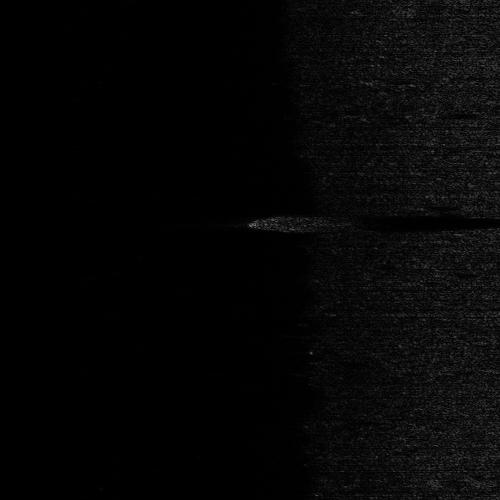rock: (296, 221, 327, 224)
shadow: (312, 221, 488, 224)
